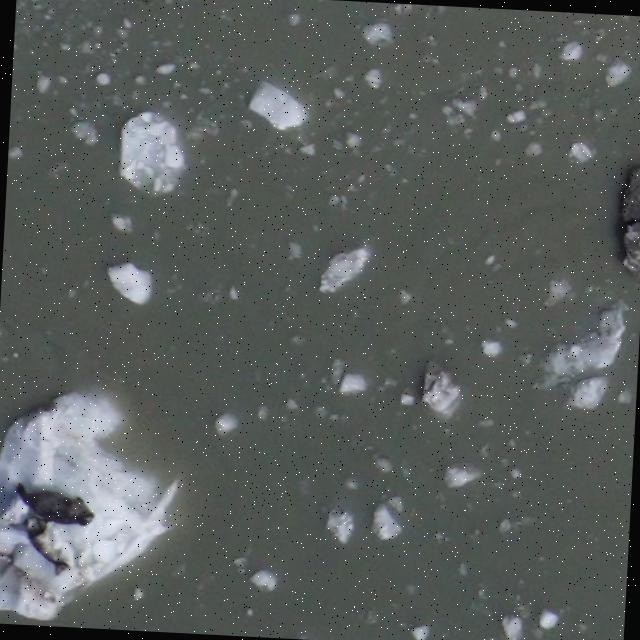seal: (10, 484, 99, 532), (17, 510, 73, 583)
